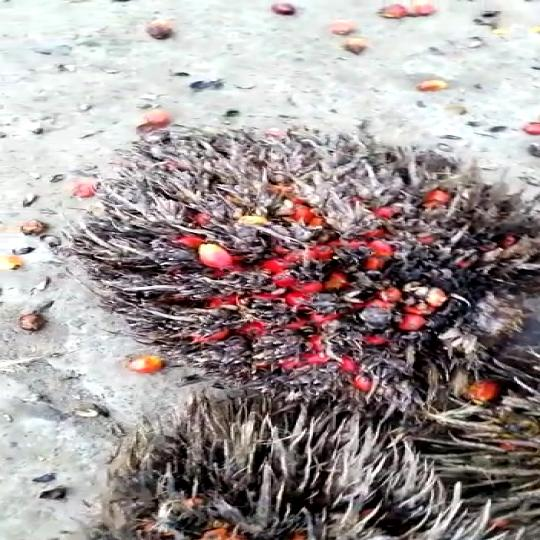terlalu masak: (57, 120, 540, 402)
